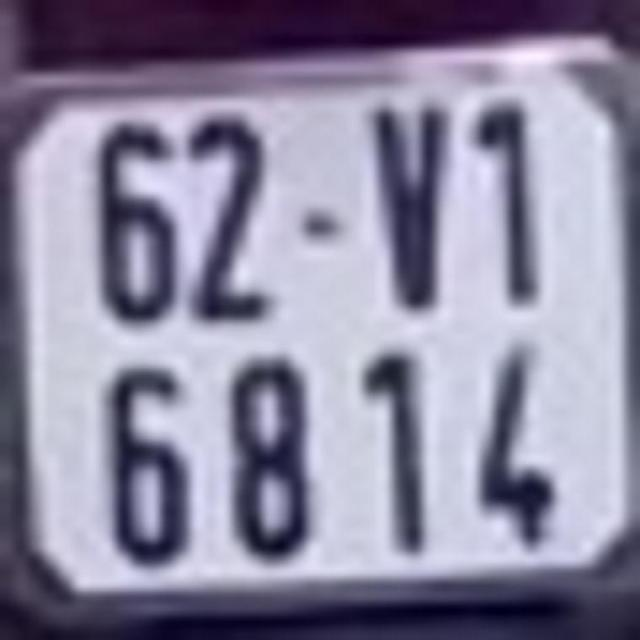1: (359, 344, 436, 551), (472, 98, 548, 301)
2: (180, 111, 274, 322)
4: (472, 338, 555, 557)
6: (107, 368, 191, 568), (96, 116, 174, 328)
8: (229, 352, 315, 554)
V: (363, 97, 461, 305)
